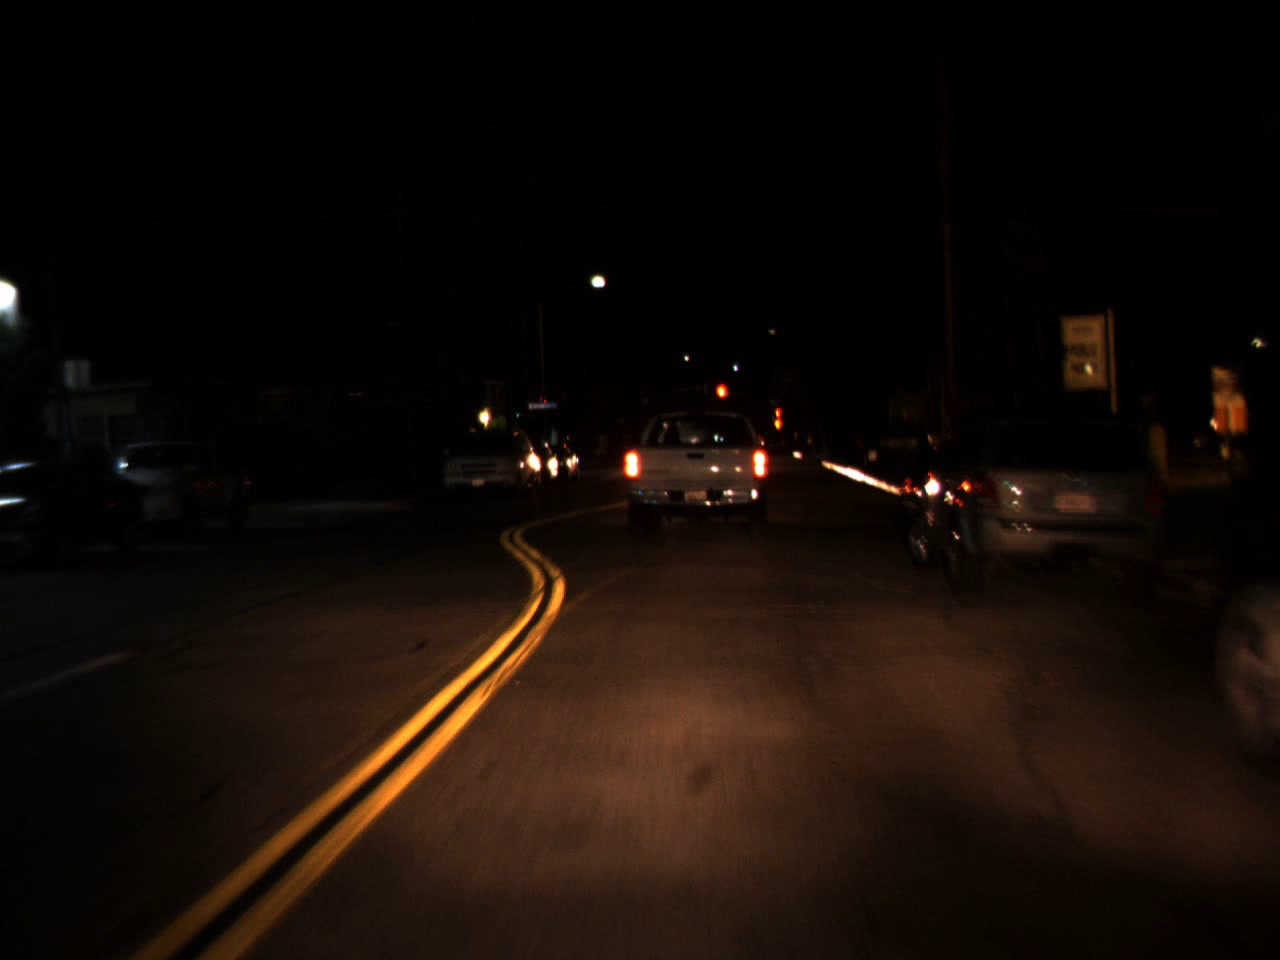stop: (714, 381, 727, 416), (772, 406, 782, 424)
